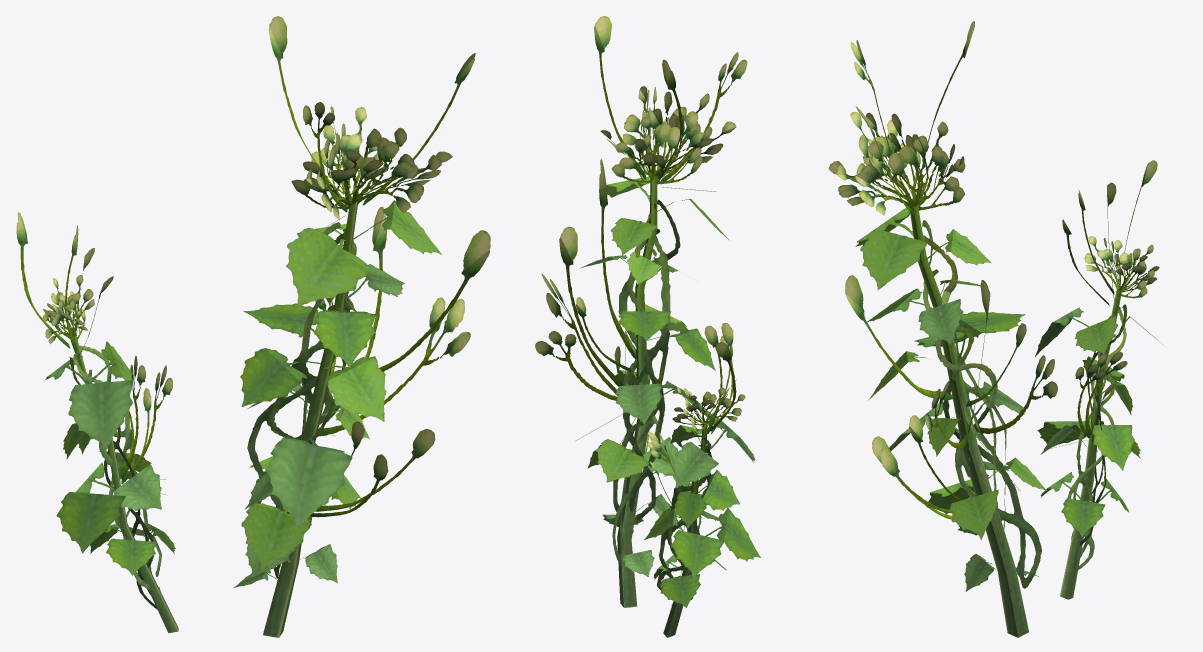
Rendered from Plant_zhiwu_tongyong_04.FBX.
3 views of the same model, side by side, from view 1: azimuth 30°, elevation 25°; view 2: azimuth 150°, elevation 25°; view 3: azimuth 270°, elevation 25° (orthographic). The views are drawn at different scales.
Parts seen in each view (by area): view 1: Plant_zhiwu_tongyong_04; view 2: Plant_zhiwu_tongyong_04; view 3: Plant_zhiwu_tongyong_04.
Part boxes in pixels (x1,y1,x2,y2): Plant_zhiwu_tongyong_04: (16, 16, 490, 637); Plant_zhiwu_tongyong_04: (535, 16, 760, 637); Plant_zhiwu_tongyong_04: (828, 21, 1162, 637).
Size of the model in its own units: 136 by 234 by 134.
